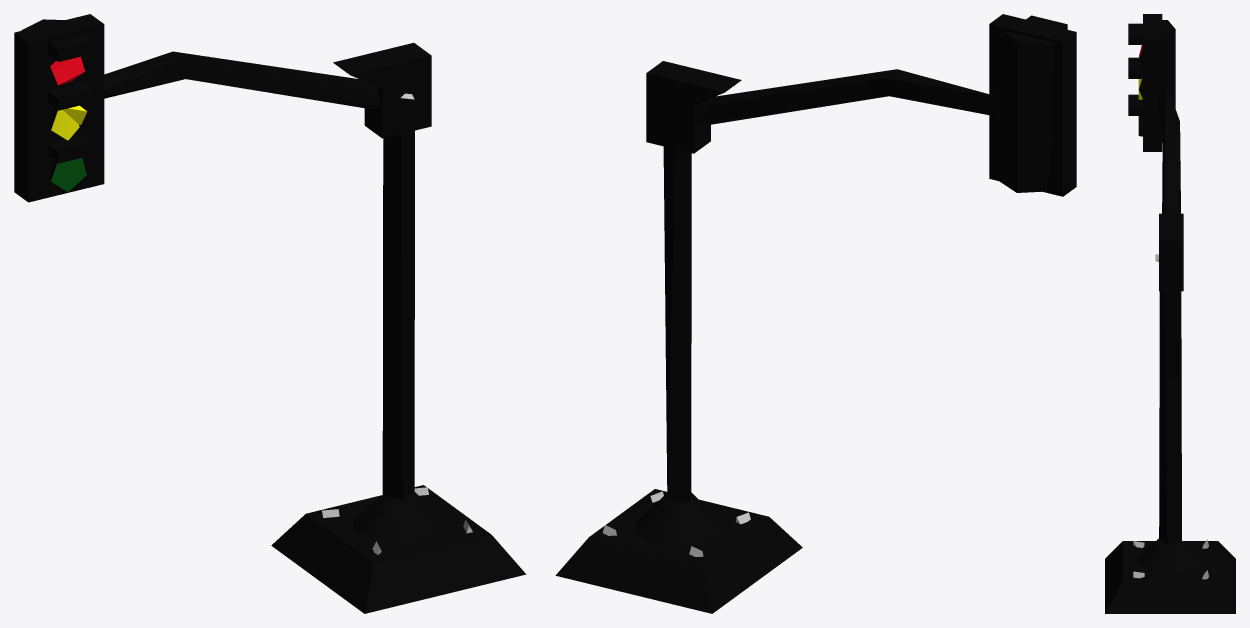
The model's file is SemaforoTransitoLOD1.fbx.
3 views of the same model, side by side, from view 1: azimuth 30°, elevation 25°; view 2: azimuth 150°, elevation 25°; view 3: azimuth 270°, elevation 25° (orthographic). The views are drawn at different scales.
Visible parts, largest first — view 1: SemaforoLOD1; view 2: SemaforoLOD1; view 3: SemaforoLOD1.
Part boxes in pixels (left/top/right/bottom): SemaforoLOD1: left=14, top=14, right=526, bottom=613; SemaforoLOD1: left=555, top=14, right=1076, bottom=613; SemaforoLOD1: left=1105, top=14, right=1235, bottom=613.
Bounding box in the file's own units: 355 × 451 × 122.
